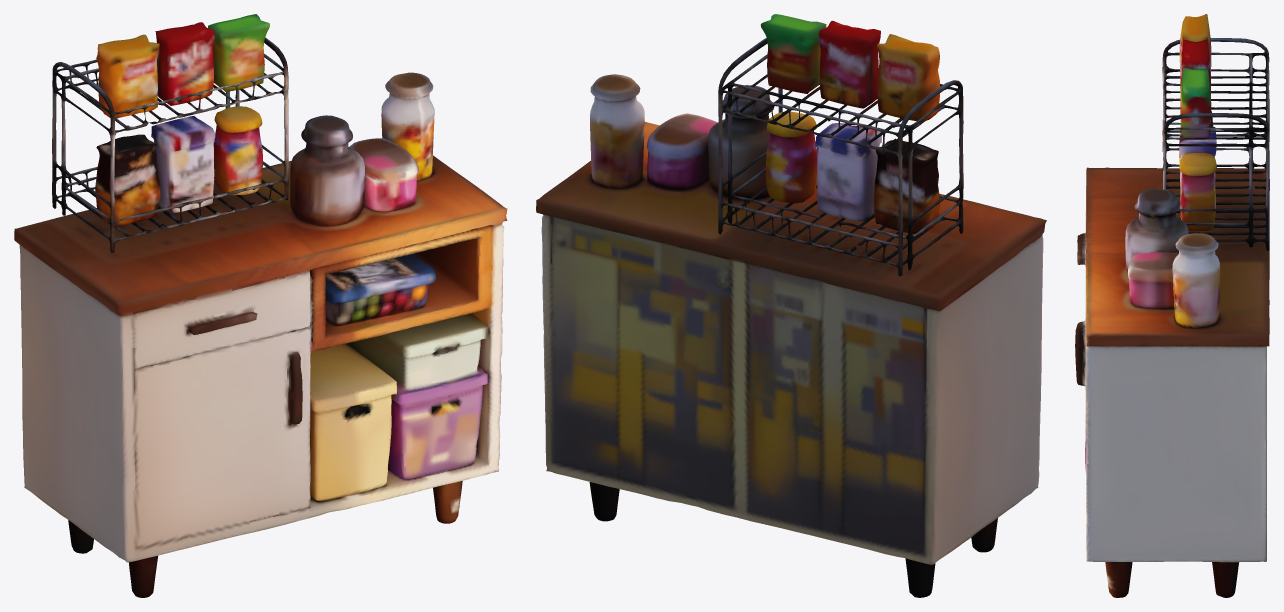
File: 泰迪阿贝贝 (4).fbx
The picture shows the model from 3 angles, left to right: view 1: azimuth 30°, elevation 25°; view 2: azimuth 150°, elevation 25°; view 3: azimuth 270°, elevation 25°; orthographic projection. The views are drawn at different scales.
Parts seen in each view (by area): view 1: root.0, root.2, root.3, root.1, root.5, root.4, root.6, root.8, root.9, root.10, root.7, root.12 (+2 smaller); view 2: root.0, root.1, root.7, root.6, root.8, root.10, root.5, root.9, root.11, root.12, root.13; view 3: root.0, root.1, root.7, root.5, root.12, root.11, root.13, root.10, root.9, root.6.
Part boxes in pixels (x1,y1,x2,y2): root.0: (14,147,507,597); root.2: (347,313,488,479); root.3: (310,344,396,500); root.1: (52,37,288,252); root.5: (290,115,364,225); root.4: (325,254,436,325); root.6: (151,116,215,213); root.8: (95,134,160,225); root.9: (96,34,159,118); root.10: (155,22,214,105); root.7: (381,72,434,180); root.12: (213,106,262,195); root.0: (536,122,1046,597); root.1: (718,38,963,276); root.7: (590,74,644,188); root.6: (815,123,881,221); root.8: (873,138,939,234); root.10: (818,20,880,108); root.5: (708,85,774,199); root.9: (877,34,939,121); root.11: (646,113,716,189); root.12: (765,111,817,203); root.13: (760,14,826,93); root.0: (1075,167,1269,597); root.1: (1162,38,1269,250); root.7: (1172,233,1220,328); root.5: (1125,188,1188,271); root.12: (1179,153,1216,231); root.11: (1128,252,1178,308); root.13: (1180,67,1211,137); root.10: (1180,39,1210,94); root.9: (1179,14,1211,70); root.6: (1179,126,1216,191).
Bounding box in the file's own units: 141 × 177 × 68.96.
